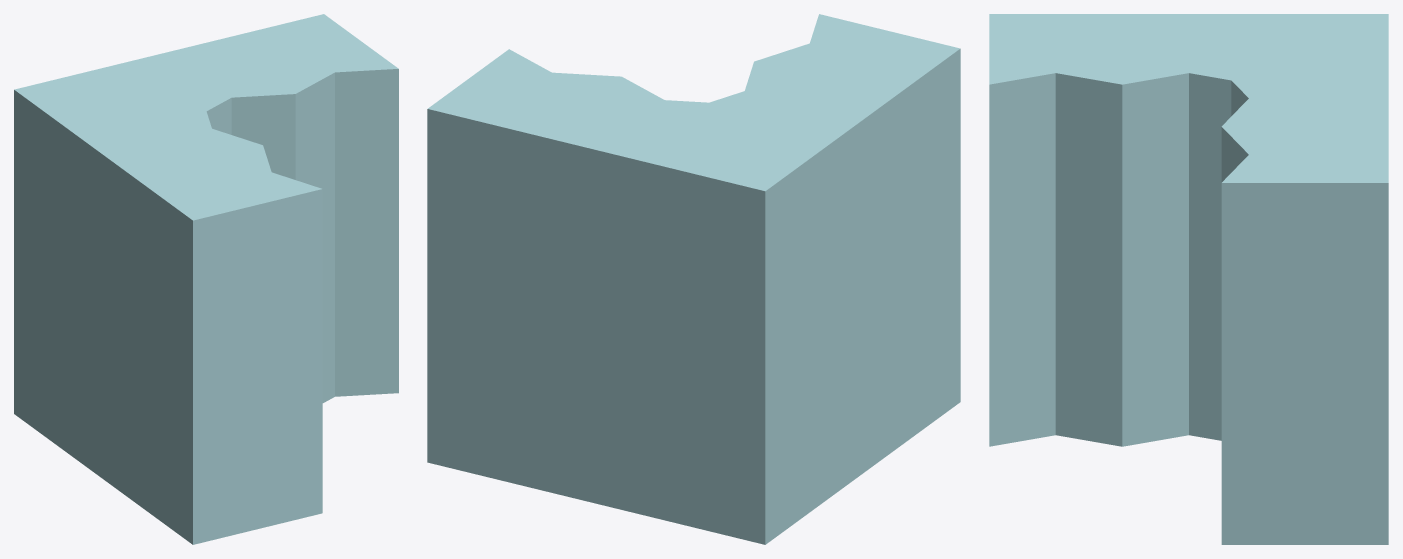
Rendered from cliff_cornerInnerLarge_stone.dae.
3 renders of one model, left to right at view 1: azimuth 30°, elevation 25°; view 2: azimuth 150°, elevation 25°; view 3: azimuth 270°, elevation 25°, orthographic. The views are drawn at different scales.
Visible parts, largest first — view 1: cliff_cornerInnerLarge_stone; view 2: cliff_cornerInnerLarge_stone; view 3: cliff_cornerInnerLarge_stone.
Part boxes in pixels (<box>): cliff_cornerInnerLarge_stone: <box>14,14,398,544</box>; cliff_cornerInnerLarge_stone: <box>427,14,960,544</box>; cliff_cornerInnerLarge_stone: <box>989,14,1388,544</box>.
Bounding box in the file's own units: 1 × 1 × 1.
